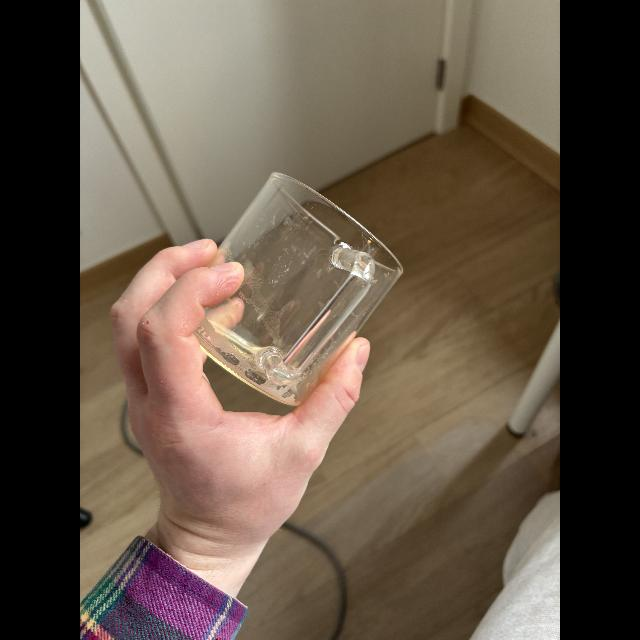Glass: (192, 170, 410, 408)
